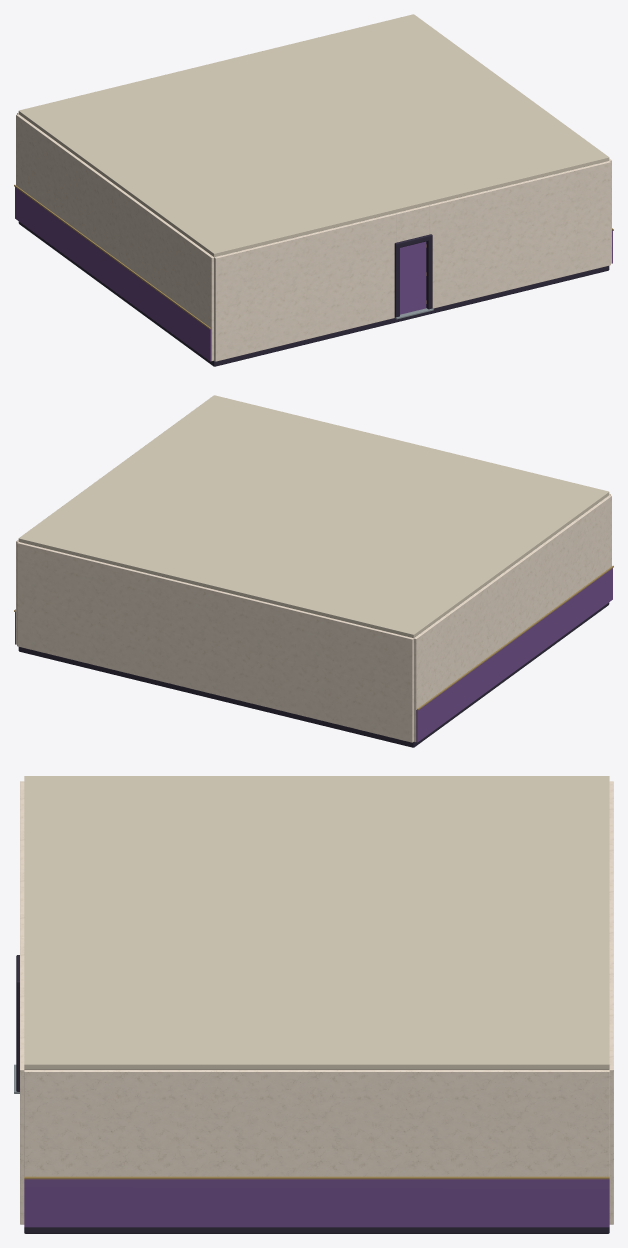
File: shelter_inner.glb
3 renders of one model, top to bottom at view 1: azimuth 30°, elevation 25°; view 2: azimuth 150°, elevation 25°; view 3: azimuth 270°, elevation 25°, orthographic. The views are drawn at different scales.
Parts seen in each view (by area): view 1: ceiling.043, wall.117, wall.116, wall.119, lower_panel.118, shelter_inner_floor, front.034_leaf, door_lintel.031, panel_rail.118, front.034_jamb; view 2: ceiling.043, wall.118, wall.119, lower_panel.118, shelter_inner_floor, panel_rail.118; view 3: ceiling.043, wall.120, lower_panel.119, shelter_inner_floor, panel_rail.119, wall.118, wall.116, wall.117.
Part boxes in pixels (x1,y1,x2,y2): ceiling.043: [18, 14, 609, 257]; wall.117: [214, 213, 396, 361]; wall.116: [428, 161, 610, 308]; wall.119: [16, 114, 213, 360]; lower_panel.118: [15, 187, 211, 361]; shelter_inner_floor: [18, 221, 609, 366]; front.034_leaf: [400, 241, 426, 314]; door_lintel.031: [395, 205, 429, 242]; panel_rail.118: [14, 184, 210, 329]; front.034_jamb: [426, 238, 432, 309]; ceiling.043: [18, 395, 609, 638]; wall.118: [17, 542, 413, 742]; wall.119: [414, 495, 611, 741]; lower_panel.118: [416, 568, 612, 742]; shelter_inner_floor: [18, 602, 609, 747]; panel_rail.118: [417, 565, 613, 710]; ceiling.043: [24, 776, 609, 1069]; wall.120: [24, 1070, 609, 1176]; lower_panel.119: [24, 1179, 609, 1227]; shelter_inner_floor: [24, 1227, 609, 1233]; panel_rail.119: [24, 1176, 609, 1179]; wall.118: [609, 781, 613, 1224]; wall.116: [20, 938, 24, 1224]; wall.117: [20, 781, 24, 913].
Bounding box in the file's own units: 14.32 × 3.84 × 12.3.
9 materials, 2 textured.
